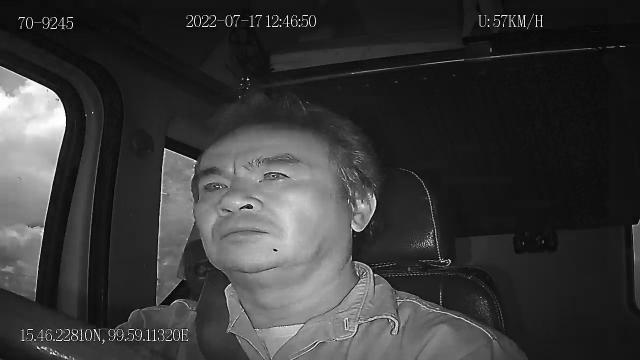SafeDriving: (250, 158, 302, 190), (195, 170, 234, 200)
Seatbelt: (193, 270, 251, 360)
